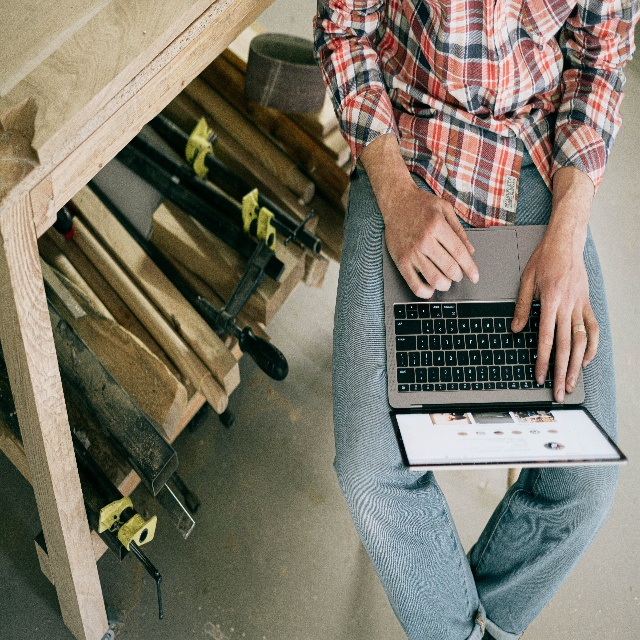Sin_guantes: (510, 229, 601, 403), (384, 185, 480, 299)
